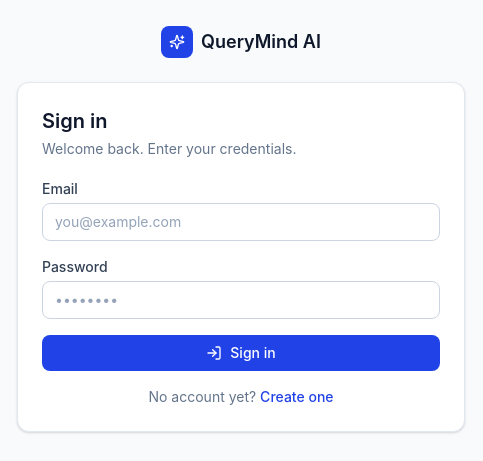
Scenario: Login page › shows a validation error for an invalid email and does not submit
In the field labelled "Email": (241, 222) [42,203,440,241], type "not-an-email"
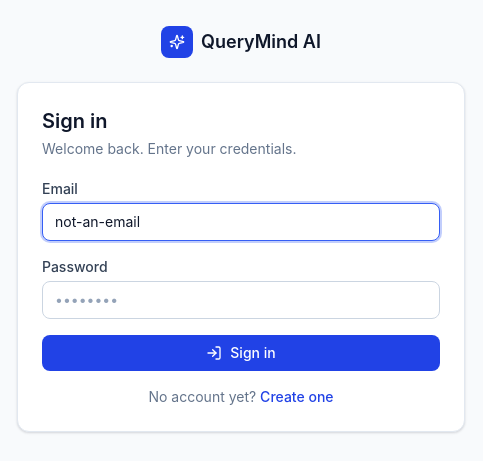
In the password field labelled "Password": (241, 300) [42,281,440,319], type "whatever123"
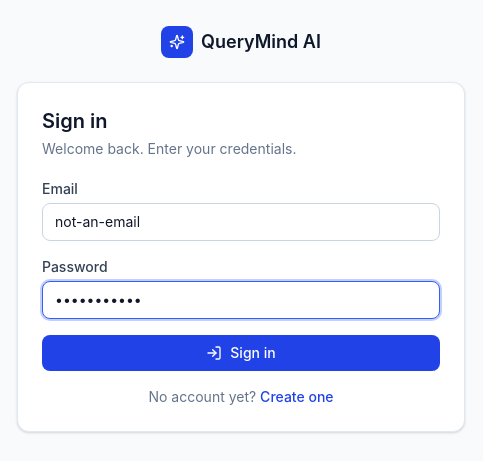
Click the button "Sign in": (241, 353) [42,335,440,371]
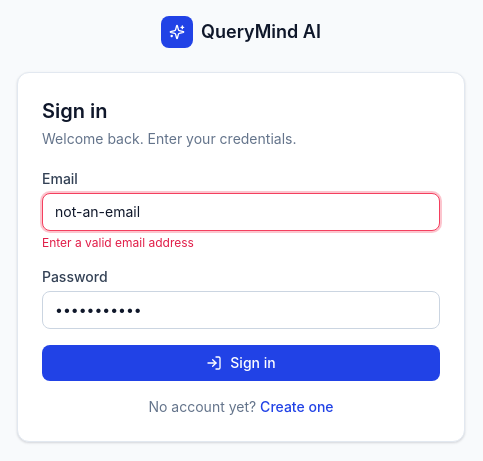
Check: the text "Enter a valid email address" is shown, box [42,235,194,250]
